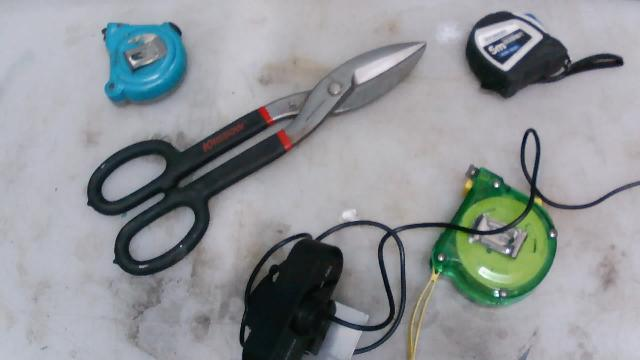gunting_plat: (92, 36, 436, 311)
